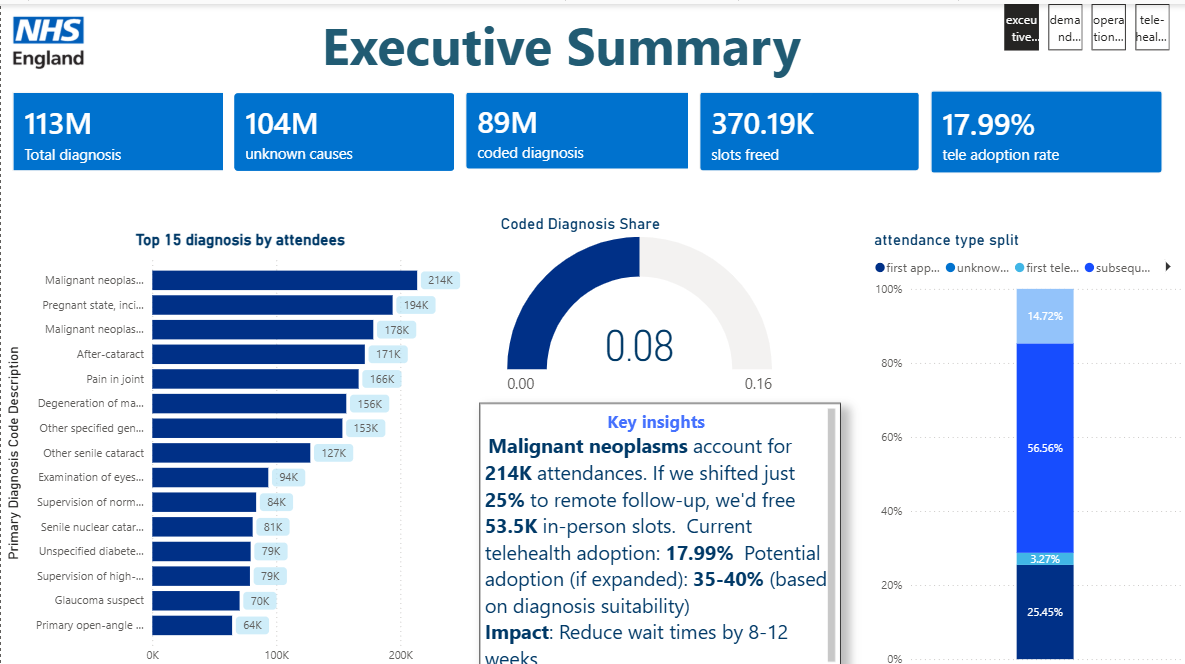

The dashboard page shown, as its layout file describes it:
{"tool":"powerbi","page":{"name":"exceutive summary","canvas":[1280,720],"ordinal":0},"visuals":[{"type":"textbox","box":[442.2,43.5,279.7,153.1],"z":0},{"type":"textbox","box":[364.7,17,432.8,52.9],"z":1000},{"type":"cardVisual","title":"Total diagnosis","fields":{"Data":["Sum(data.values)"]},"box":[0,82.5,255.1,110.7],"z":2000},{"type":"cardVisual","fields":{"Data":["Sum(data.values)"]},"box":[240.1,84.4,262.6,108.8],"z":3000},{"type":"cardVisual","fields":{"Data":["Sum(data.values)"]},"box":[489.6,82.5,268.3,108.8],"z":4000},{"type":"cardVisual","fields":{"Data":["Sum(nhs_outpatient_dataaa.Slots Freed (Opt Shift))"]},"box":[741,82.5,262.6,110.7],"z":5000},{"type":"cardVisual","fields":{"Data":["nhs_outpatient_dataaa.Tele Adoption %"]},"box":[990.5,80.7,275.8,114.4],"z":6000},{"type":"clusteredBarChart","title":"Top 15 diagnosis by attendees","fields":{"Y":["Sum(nhs_outpatient_dataaa.all_attendances)"],"Category":["nhs_outpatient_dataaa.Primary Diagnosis Code Description"]},"box":[0,244,516.7,476.4],"z":7000},{"type":"pageNavigator","box":[1083.3,0,181.7,50],"z":8000},{"type":"hundredPercentStackedColumnChart","title":"attendance type split","fields":{"Y":["Sum(nhs_outpatient_dataaa.first_appointment)","Sum(nhs_outpatient_dataaa.unknown_attendance_type)","Sum(nhs_outpatient_dataaa.first_tele)","Sum(nhs_outpatient_dataaa.subsequent_appointment)","Sum(nhs_outpatient_dataaa.subsequent_tele)"]},"box":[937.4,244,341.9,476.4],"z":9000},{"type":"gauge","fields":{"Y":["nhs_outpatient_dataaa.Coded Diagnosis Share"]},"box":[534,226.7,309.3,203.6],"z":10000},{"type":"textbox","box":[180,0,850,86.7],"z":11000},{"type":"image","box":[0,0,99.4,86.3],"z":12000},{"type":"textbox","box":[516.7,430,390,290],"z":13000}]}

Visuals, with their boxes in screenshot pixels (x1, y1, x2, y2), scaled from the page's 1280x720 canvas onto the 1185x664 screenshot:
textbox: x1=409 y1=40 x2=668 y2=181
textbox: x1=338 y1=16 x2=738 y2=64
"Total diagnosis" cardVisual: x1=0 y1=76 x2=236 y2=178
cardVisual - Sum(data.values): x1=222 y1=78 x2=465 y2=178
cardVisual - Sum(data.values): x1=453 y1=76 x2=702 y2=176
cardVisual - Sum(nhs_outpatient_dataaa.Slots Freed (Opt Shift)): x1=686 y1=76 x2=929 y2=178
cardVisual - nhs_outpatient_dataaa.Tele Adoption %: x1=917 y1=74 x2=1172 y2=180
"Top 15 diagnosis by attendees" clusteredBarChart: x1=0 y1=225 x2=478 y2=663
pageNavigator: x1=1003 y1=0 x2=1171 y2=46
"attendance type split" hundredPercentStackedColumnChart: x1=868 y1=225 x2=1184 y2=663
gauge - nhs_outpatient_dataaa.Coded Diagnosis Share: x1=494 y1=209 x2=781 y2=397
textbox: x1=167 y1=0 x2=954 y2=80
image: x1=0 y1=0 x2=92 y2=80
textbox: x1=478 y1=397 x2=839 y2=663
